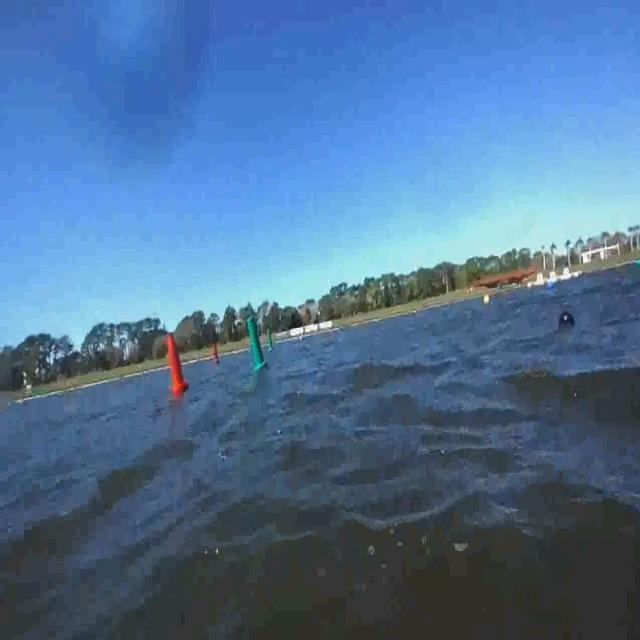blue-buoy: (558, 308, 577, 330)
green-column-buoy: (247, 318, 270, 372), (268, 325, 274, 350)
red-column-buoy: (166, 335, 189, 393), (212, 339, 221, 365)
yellow-buoy: (483, 292, 492, 307)
